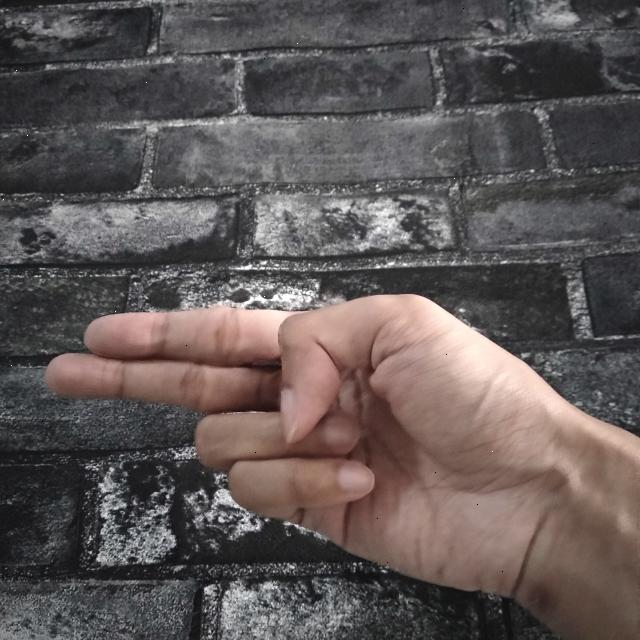H: (41, 288, 640, 640), (42, 289, 640, 640)
